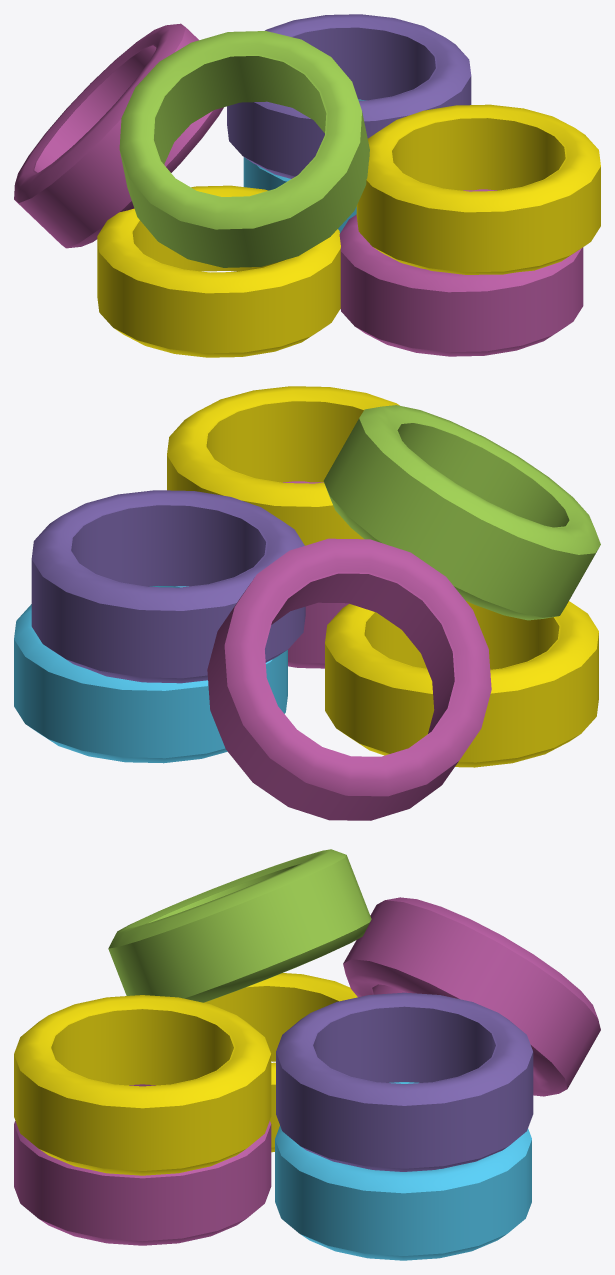
Rendered from Tires.fbx.
3 renders of one model, top to bottom at view 1: azimuth 30°, elevation 25°; view 2: azimuth 150°, elevation 25°; view 3: azimuth 270°, elevation 25°, orthographic. The views are drawn at different scales.
Visible parts, largest first — view 1: LP.006, LP.002, LP.004, LP.001, LP.003, LP.005, LP; view 2: LP.005, LP.003, LP.006, LP.004, LP.002, LP, LP.001; view 3: LP.002, LP.003, LP.006, LP, LP.005, LP.001, LP.004.
Boxes of the visible parts, <box> form: LP.006: <box>119,31,369,267</box>; LP.002: <box>356,104,600,274</box>; LP.004: <box>97,185,340,357</box>; LP.001: <box>339,189,583,356</box>; LP.003: <box>227,14,471,178</box>; LP.005: <box>14,23,223,248</box>; LP: <box>243,99,366,232</box>; LP.005: <box>207,538,491,820</box>; LP.003: <box>31,490,305,683</box>; LP.006: <box>323,405,600,620</box>; LP.004: <box>325,601,598,767</box>; LP.002: <box>167,386,399,545</box>; LP: <box>14,586,287,763</box>; LP.001: <box>283,481,348,668</box>; LP.002: <box>14,995,271,1175</box>; LP.003: <box>276,992,533,1171</box>; LP.006: <box>108,849,371,1002</box>; LP: <box>275,1082,531,1260</box>; LP.005: <box>343,897,600,1096</box>; LP.001: <box>14,1084,271,1245</box>; LP.004: <box>204,973,357,1152</box>.
Bounding box in the file's own units: 460 × 262 × 526.
